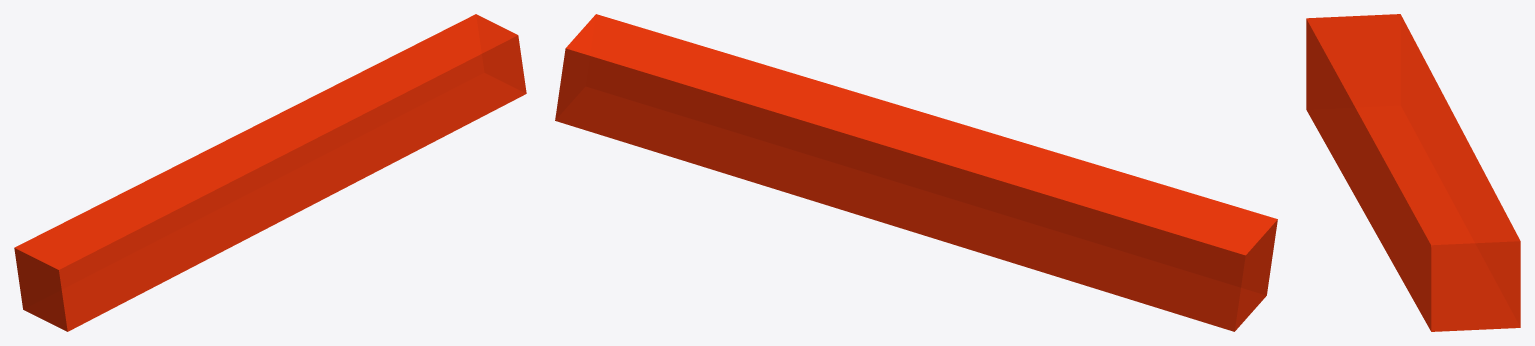
File: Event_421278790_EErechit_32.fbx
The picture shows the model from 3 angles, left to right: view 1: azimuth 30°, elevation 25°; view 2: azimuth 150°, elevation 25°; view 3: azimuth 270°, elevation 25°; orthographic projection. The views are drawn at different scales.
Visible parts, largest first — view 1: Model; view 2: Model; view 3: Model.
Boxes of the visible parts, x1,y1,x2,y2 form: Model: (14, 14, 526, 331); Model: (555, 14, 1277, 331); Model: (1306, 14, 1520, 331).
Size of the model in its own units: 0.6478 by 0.1685 by 0.172.
